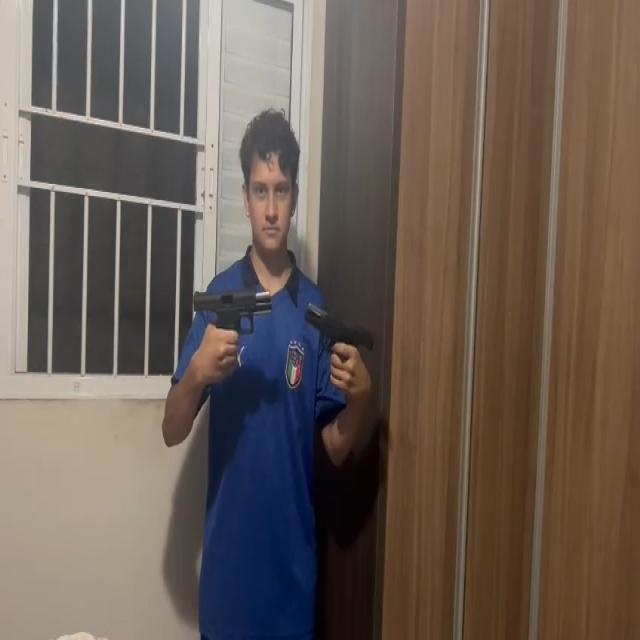gun: (303, 298, 373, 349), (193, 288, 272, 332)
